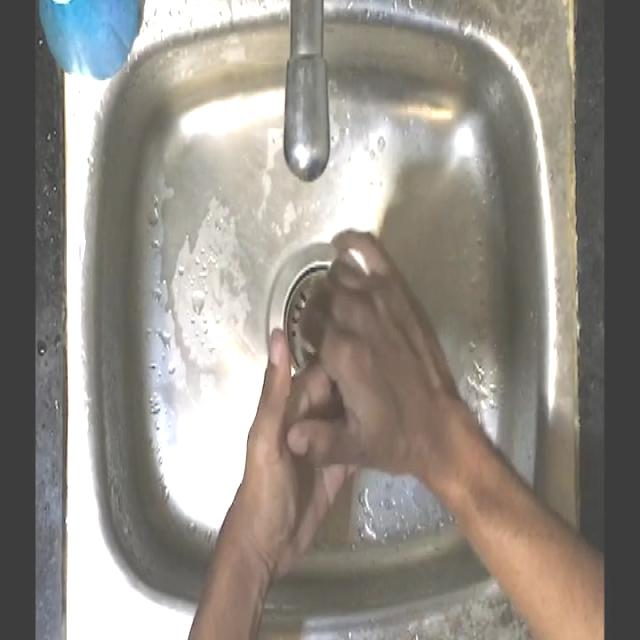step_5: (238, 215, 445, 560)
